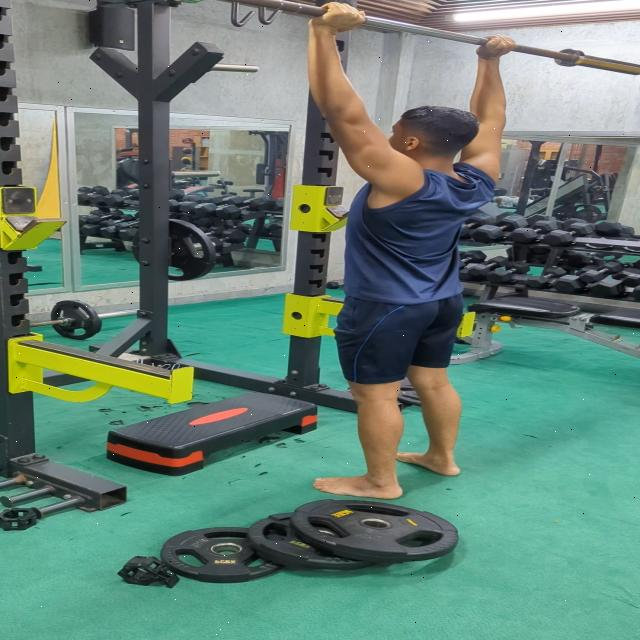Normal_OverheadPress: (288, 4, 536, 498)
